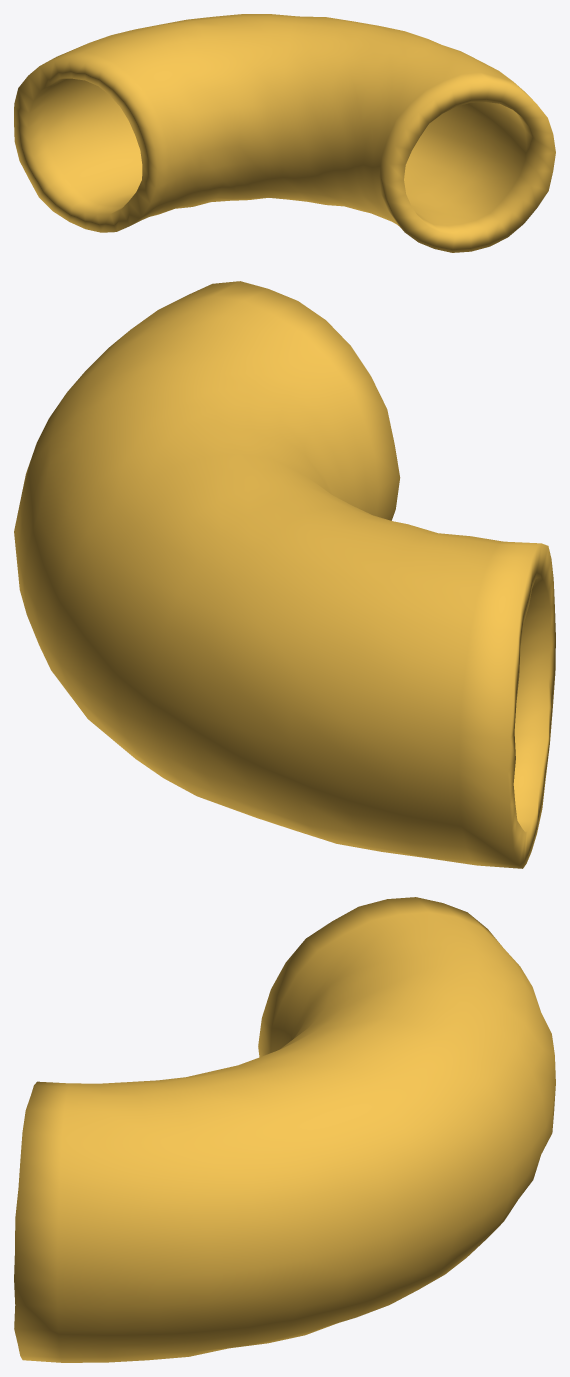
Rendered from items-macaroni.glb.
3 views of the same model, one above another, from view 1: azimuth 30°, elevation 25°; view 2: azimuth 150°, elevation 25°; view 3: azimuth 270°, elevation 25° (orthographic). The views are drawn at different scales.
Visible parts, largest first — view 1: Macaroni__Pasta; view 2: Macaroni__Pasta; view 3: Macaroni__Pasta.
Part boxes in pixels (<box>): Macaroni__Pasta: <box>14,14,555,252</box>; Macaroni__Pasta: <box>14,281,555,868</box>; Macaroni__Pasta: <box>14,897,555,1362</box>.
Bounding box in the file's own units: 3.98 × 1.7 × 3.28.
